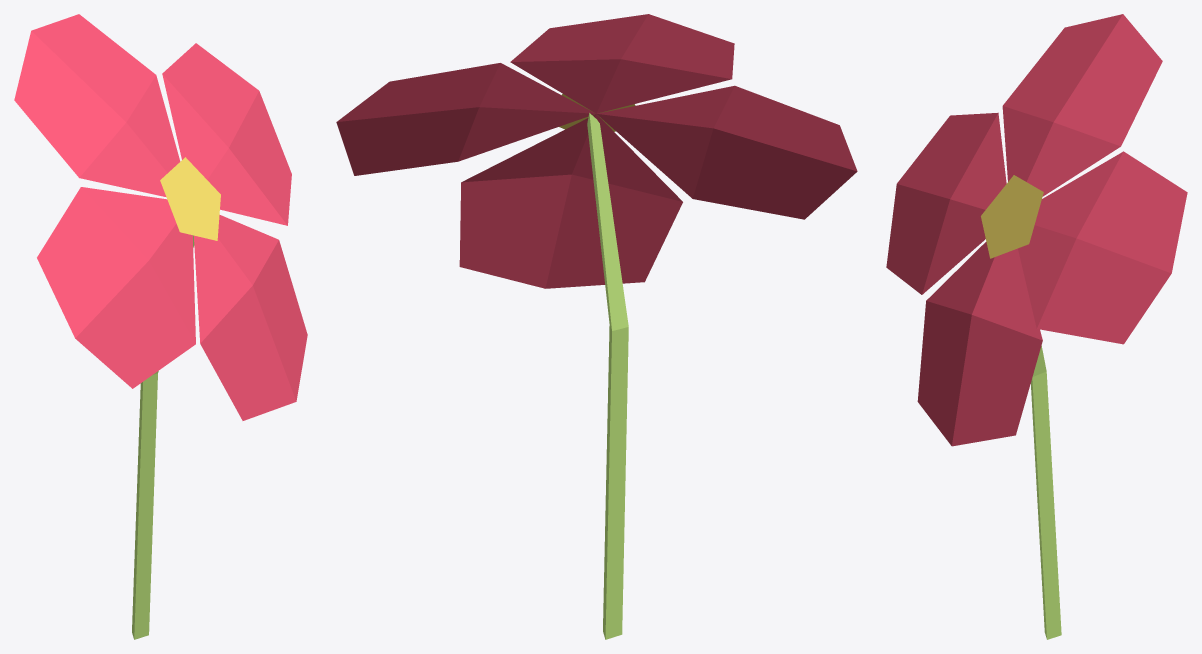
The model's file is Flower_c_OneS_06.fbx.
The picture shows the model from 3 angles, left to right: view 1: azimuth 30°, elevation 25°; view 2: azimuth 150°, elevation 25°; view 3: azimuth 270°, elevation 25°; orthographic projection. The views are drawn at different scales.
Visible parts, largest first — view 1: Flower_c_OneS_06; view 2: Flower_c_OneS_06; view 3: Flower_c_OneS_06.
Part boxes in pixels (x1,y1,x2,y2): Flower_c_OneS_06: (14,14,307,639); Flower_c_OneS_06: (336,14,857,639); Flower_c_OneS_06: (886,14,1187,639).
Bounding box in the file's own units: 0.2584 × 0.4285 × 0.1991.
